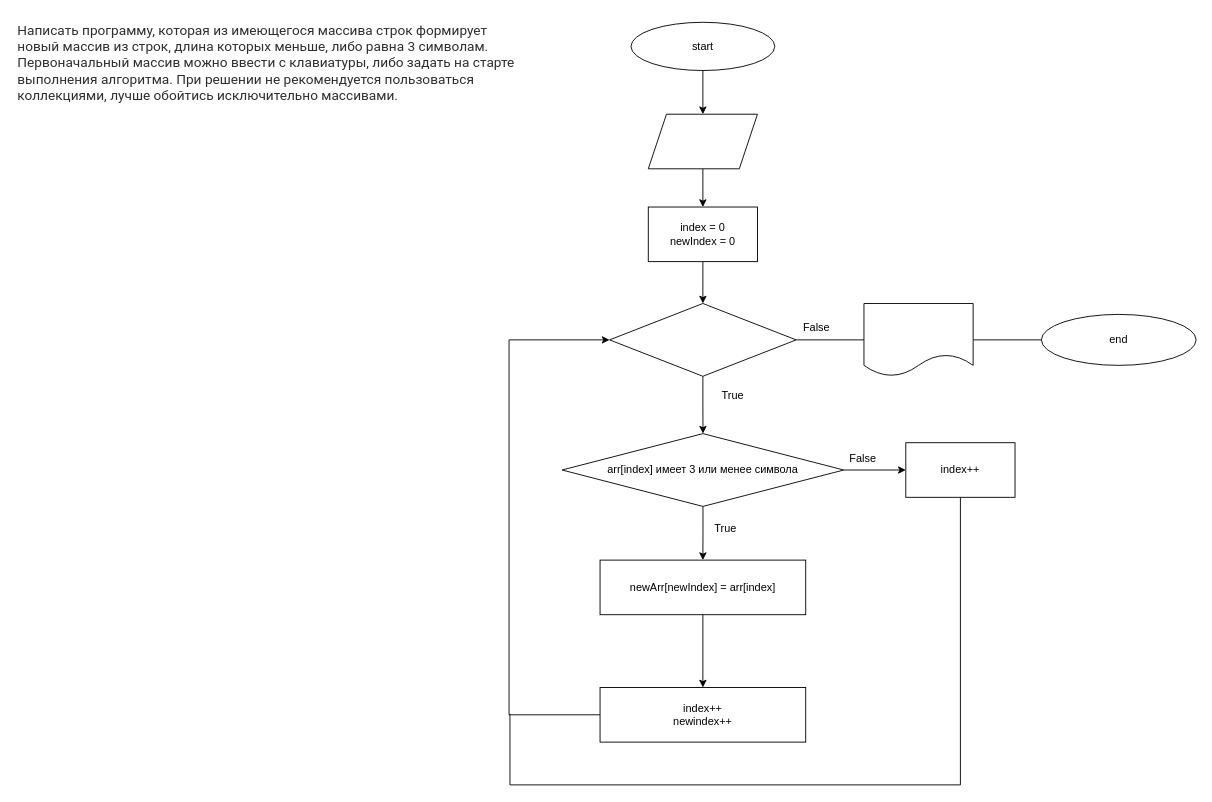
The diagram is 1212 pixels wide and 802 high, and some of its shapes have lost their labels. The box of each missing label's shape, as (x1, y1, x2, y2) in pixels:
arr []: (647, 113, 757, 169)
index < arr>Lendth: (609, 303, 796, 376)
newArr[]: (863, 303, 973, 376)
